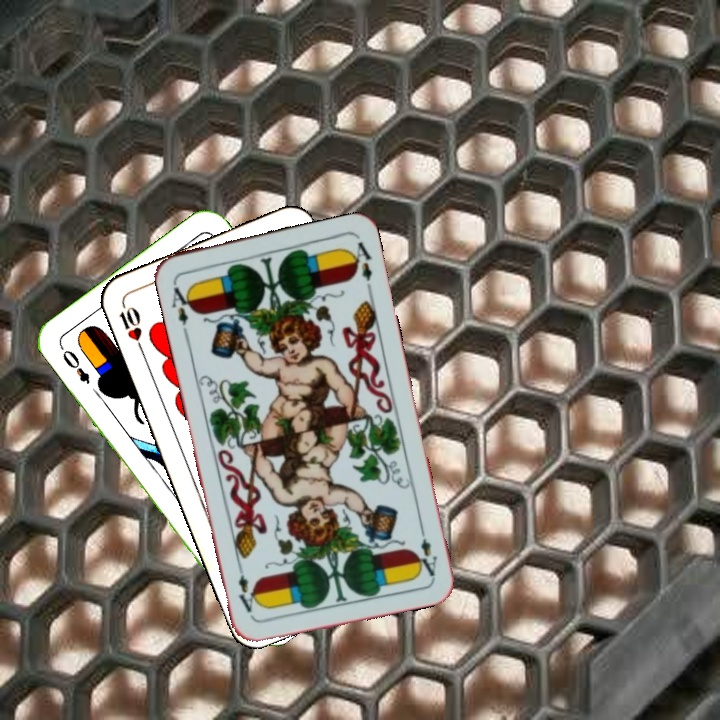EA: (167, 278, 197, 337), (413, 520, 440, 579)
EO: (55, 342, 93, 387)
H10: (115, 298, 146, 355)
